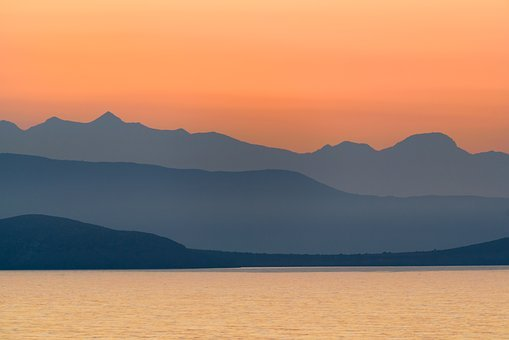mountain: (1, 112, 509, 265)
sea: (2, 268, 506, 340)
sky: (2, 1, 509, 129)
